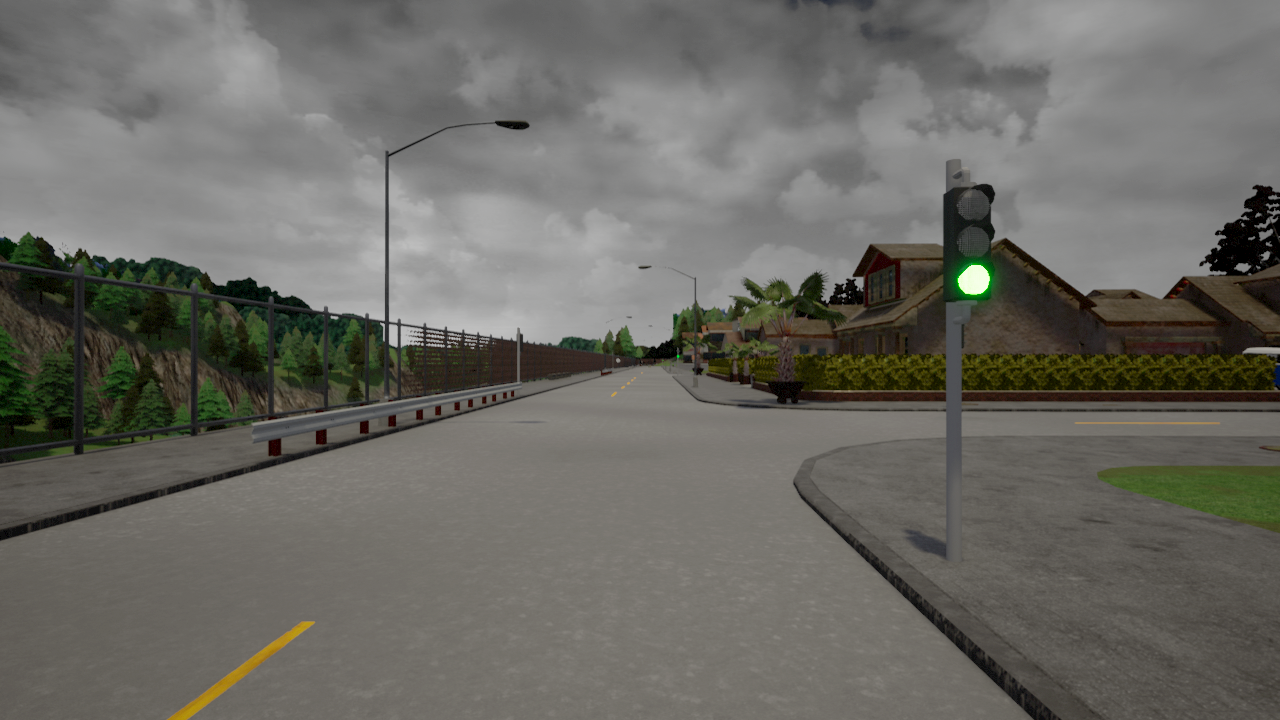green: (940, 184, 1000, 304)
